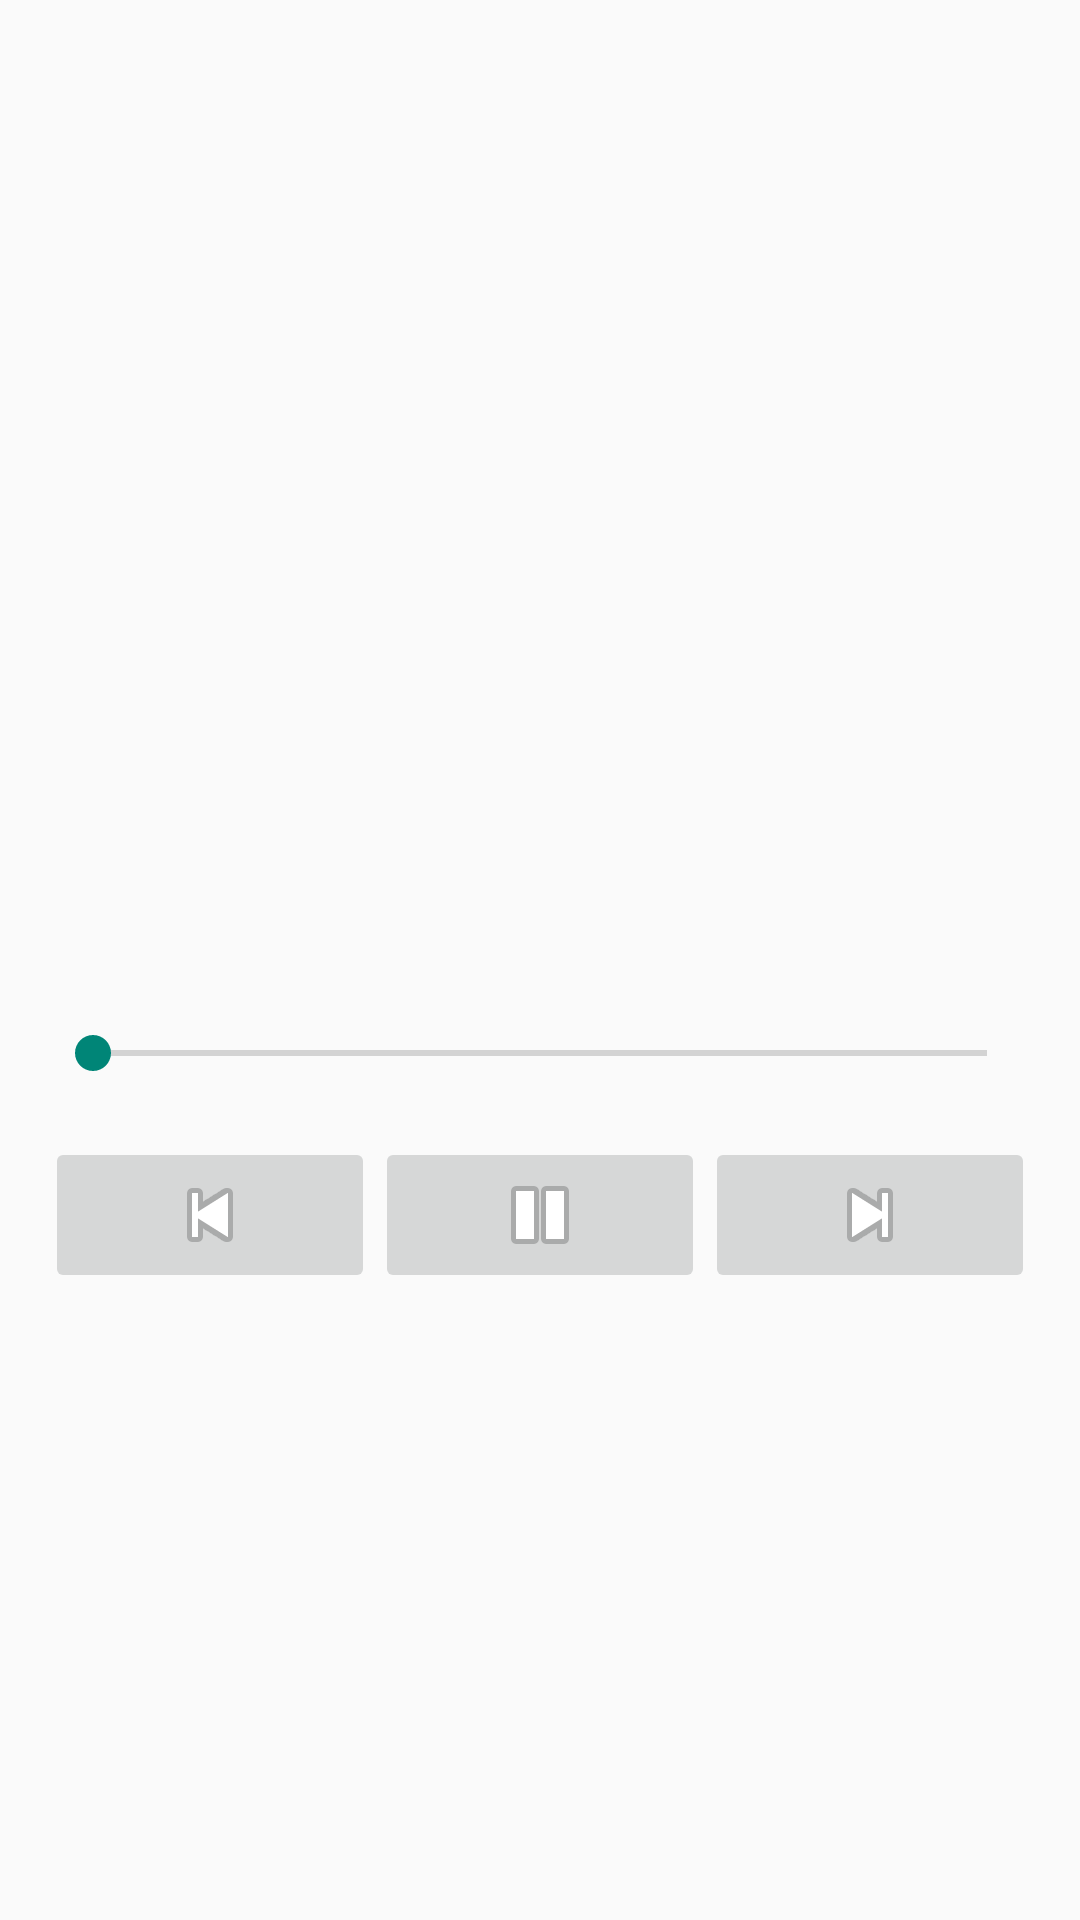

Screen size 1080 x 1920. Icon name, then its box in pixels as (x1, y1, x2, y2):
next: (717, 1155, 1023, 1275)
pause: (387, 1155, 693, 1275)
previous: (57, 1155, 363, 1275)
